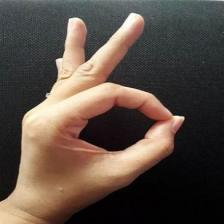five: (20, 13, 190, 204)
